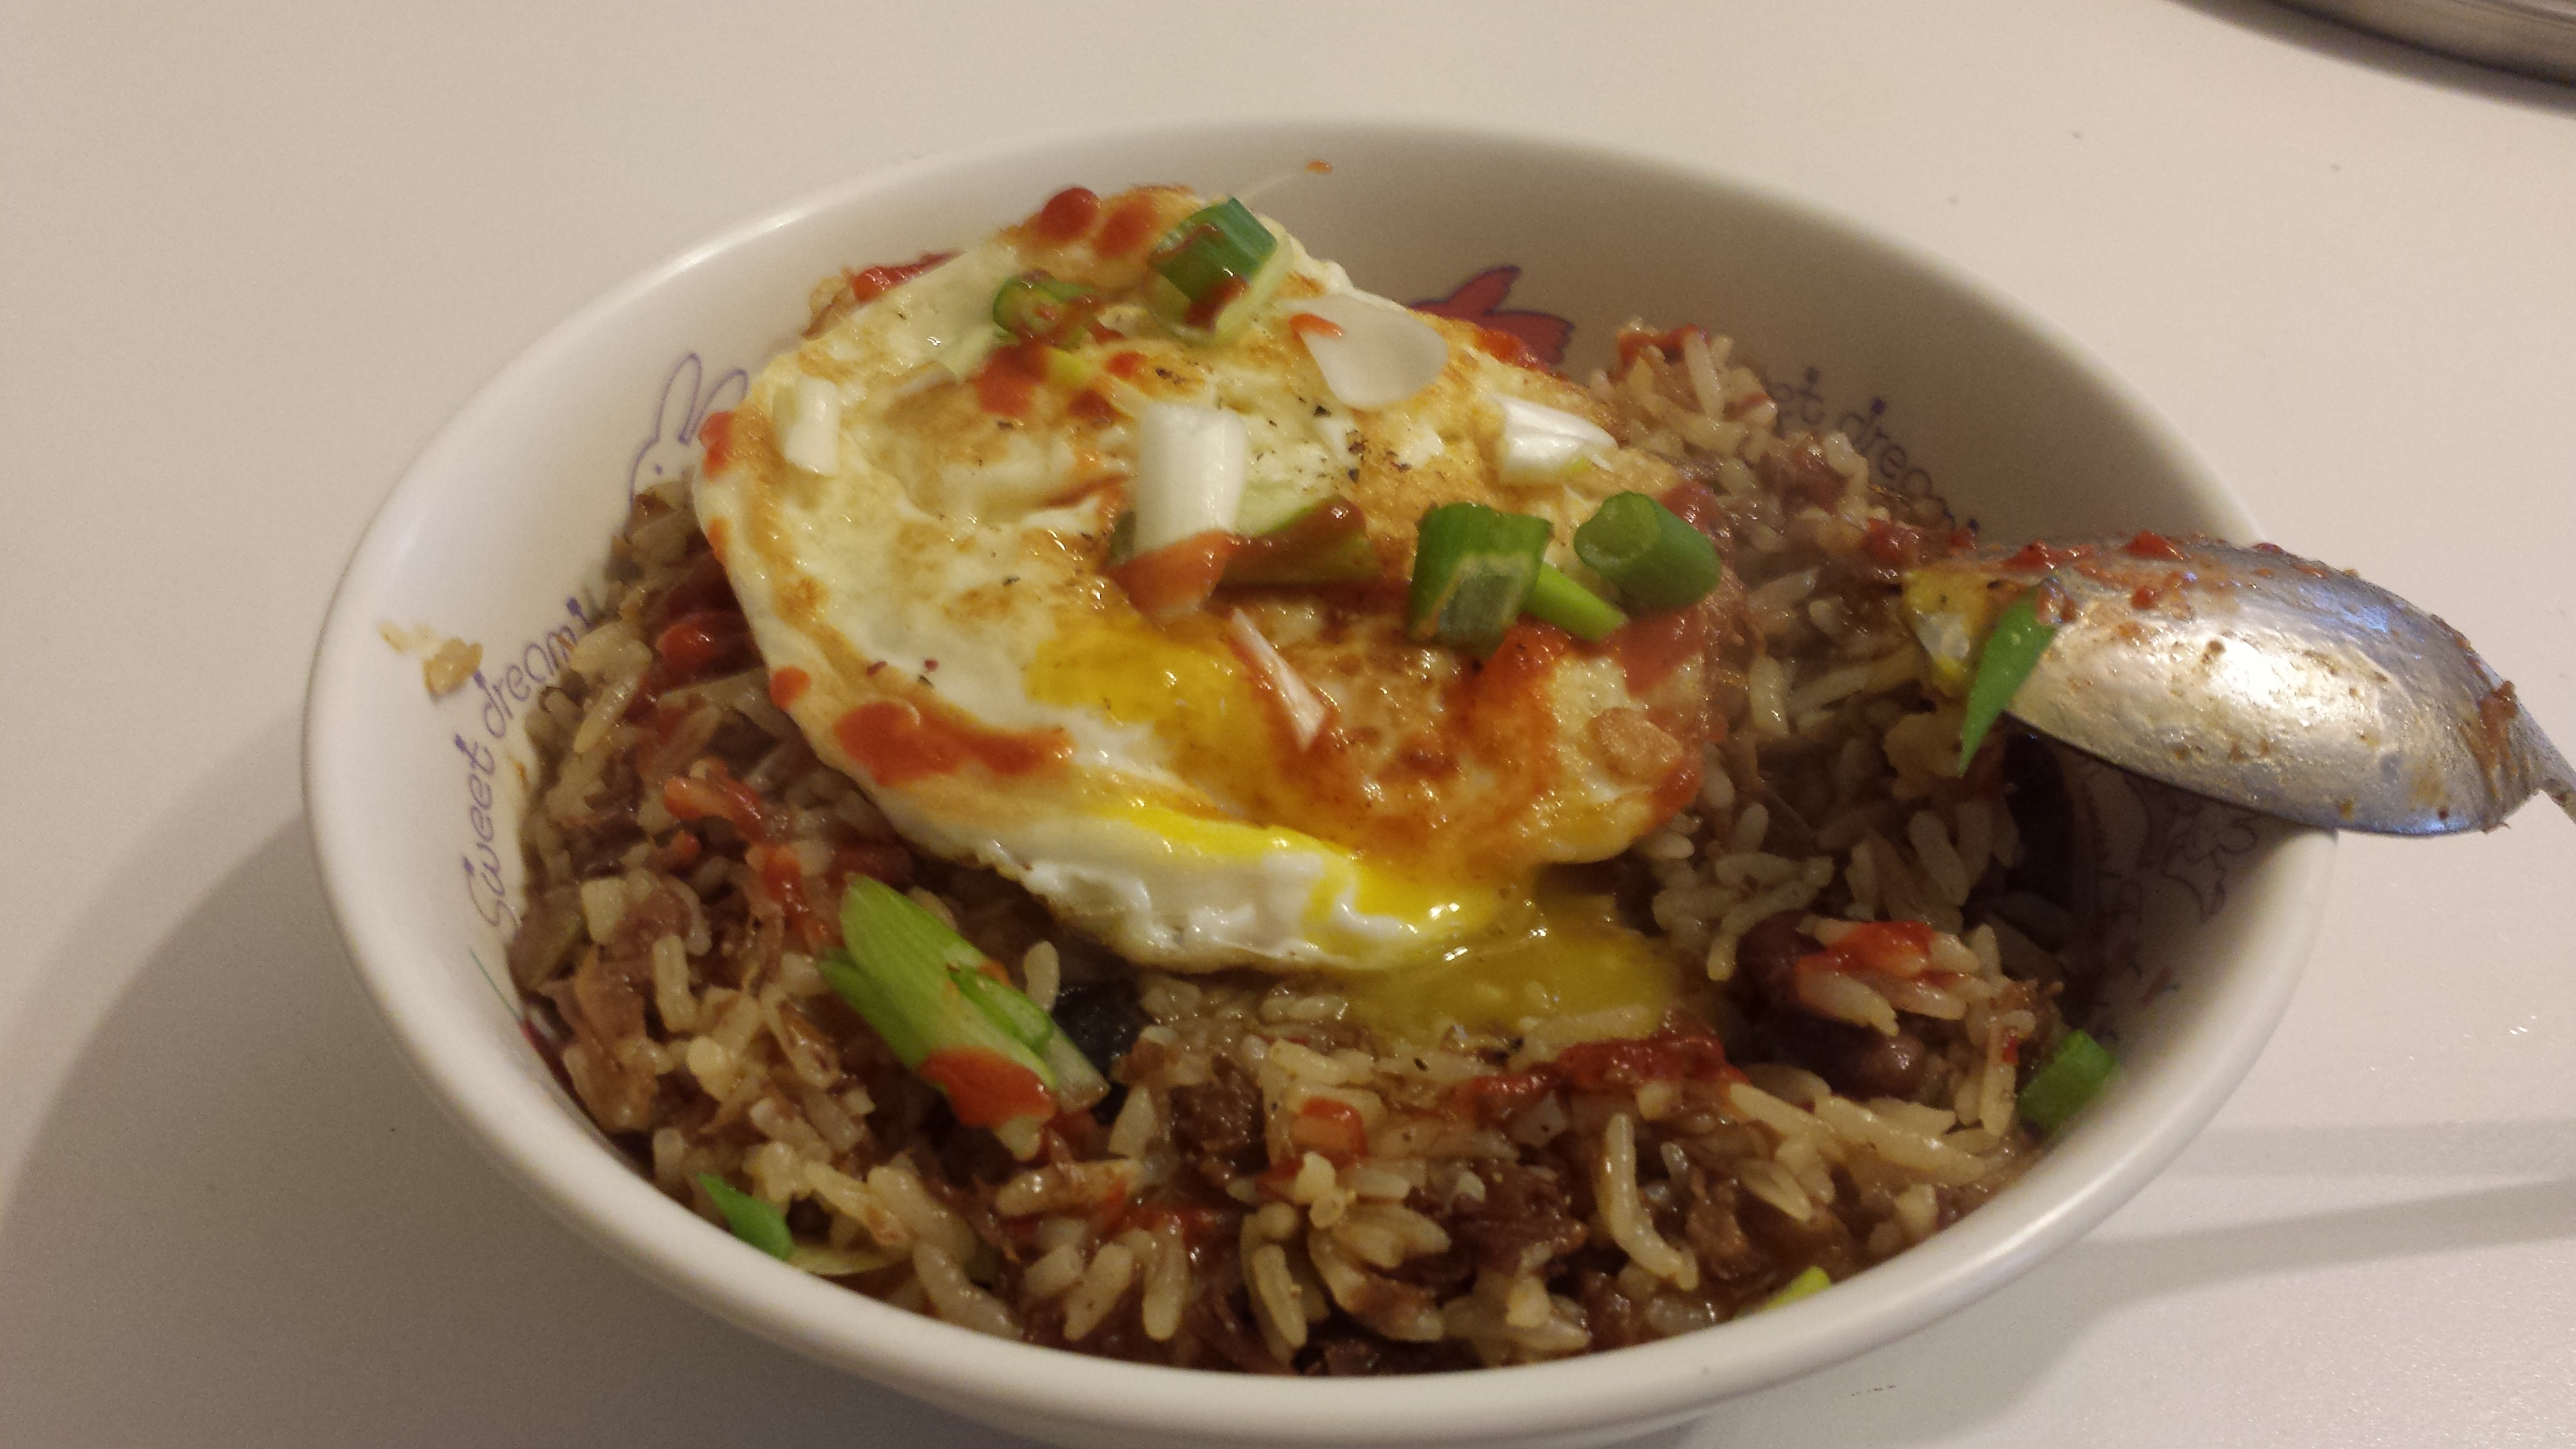fried egg: (711, 198, 1672, 906)
plain rice: (609, 846, 2059, 1364)
